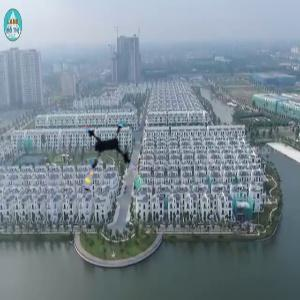drone: (70, 122, 145, 197)
